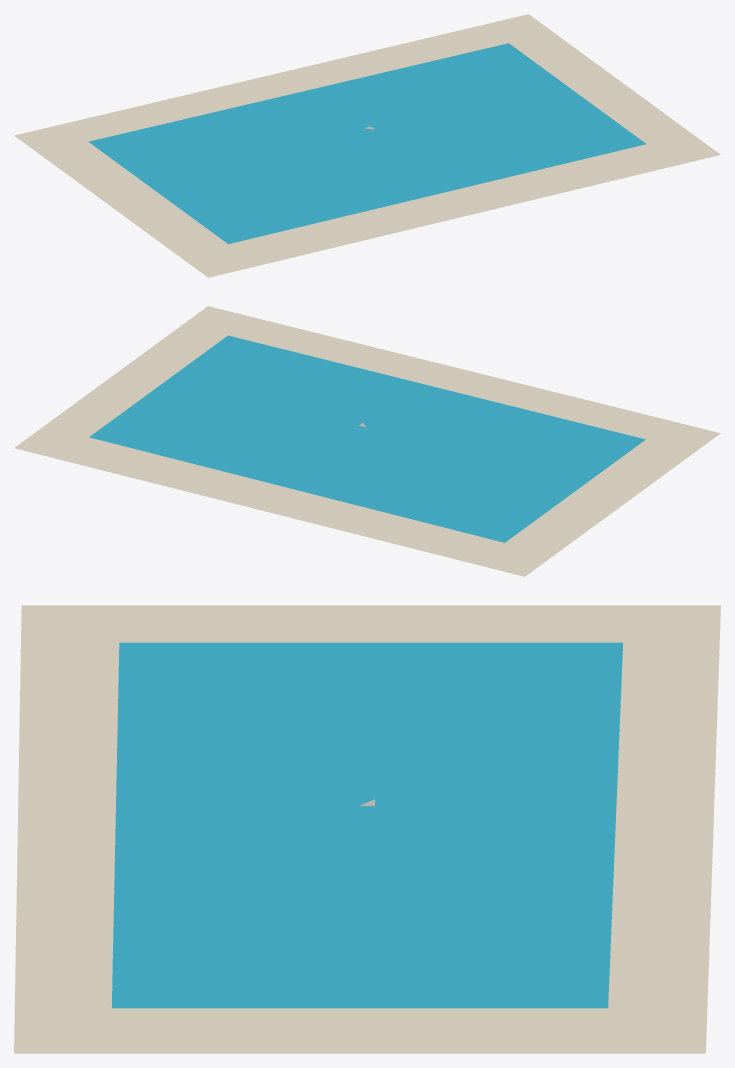
Rendered from pbpool_m20_m12.glb.
The picture shows the model from 3 angles, top to bottom: view 1: azimuth 30°, elevation 25°; view 2: azimuth 150°, elevation 25°; view 3: azimuth 270°, elevation 25°; orthographic projection. The views are drawn at different scales.
Parts seen in each view (by area): view 1: pbpool_m20_m12_lod0; view 2: pbpool_m20_m12_lod0; view 3: pbpool_m20_m12_lod0.
Boxes of the visible parts, box(x1,y1,x2,y2) form: pbpool_m20_m12_lod0: box(14, 14, 720, 277); pbpool_m20_m12_lod0: box(14, 306, 720, 576); pbpool_m20_m12_lod0: box(14, 605, 720, 1053).
Size of what is drawn, in the model's own units: 14.1 by 0.42 by 9.4.
